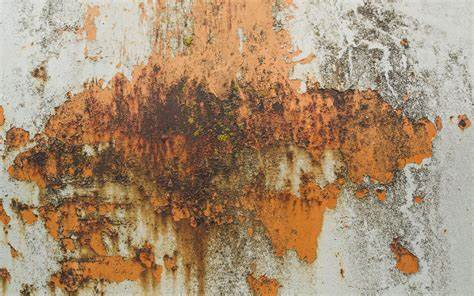rust: (108, 85, 398, 162), (37, 199, 162, 287), (212, 6, 272, 60)
